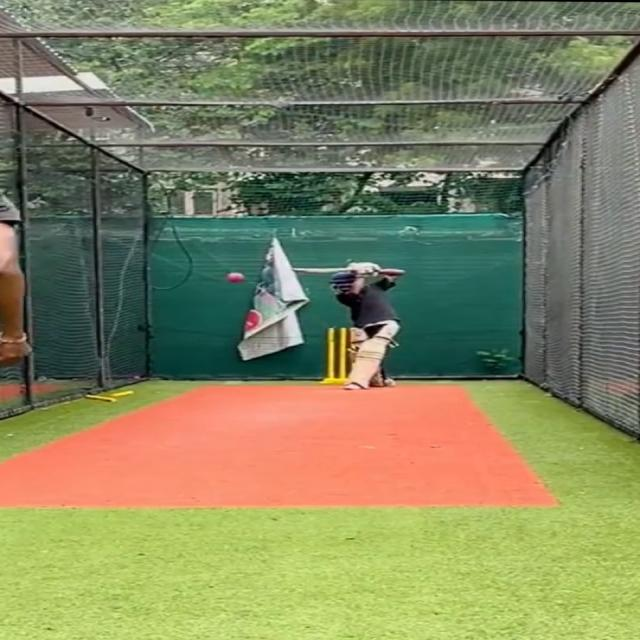ball: (222, 270, 246, 284)
stump: (321, 327, 347, 384)
